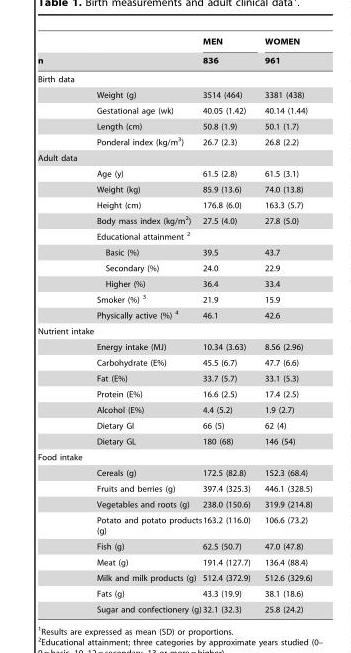table: (37, 36, 311, 613)
table column: (94, 36, 201, 613), (37, 36, 94, 613), (201, 36, 256, 613), (256, 36, 311, 613)
table column header: (37, 36, 311, 69)
table projected row header: (37, 69, 311, 86), (37, 149, 311, 165), (37, 323, 311, 338), (37, 449, 311, 464)
table row: (37, 512, 311, 538), (37, 50, 311, 69), (37, 69, 311, 86), (37, 227, 311, 244), (37, 306, 311, 323), (37, 86, 311, 102), (37, 102, 311, 118), (37, 133, 311, 149), (37, 149, 311, 165), (37, 165, 311, 181), (37, 181, 311, 197), (37, 244, 311, 260), (37, 290, 311, 306), (37, 338, 311, 354), (37, 354, 311, 370), (37, 370, 311, 386), (37, 401, 311, 417), (37, 417, 311, 433), (37, 433, 311, 449), (37, 464, 311, 480), (37, 480, 311, 496), (37, 496, 311, 512), (37, 538, 311, 554), (37, 569, 311, 585), (37, 585, 311, 601), (37, 118, 311, 133), (37, 197, 311, 212), (37, 212, 311, 227), (37, 260, 311, 275), (37, 275, 311, 290), (37, 323, 311, 338), (37, 386, 311, 401), (37, 449, 311, 464), (37, 554, 311, 569), (37, 36, 311, 50), (37, 601, 311, 613)
table spanning cell: (37, 36, 94, 69), (201, 36, 256, 69), (256, 36, 311, 69)
